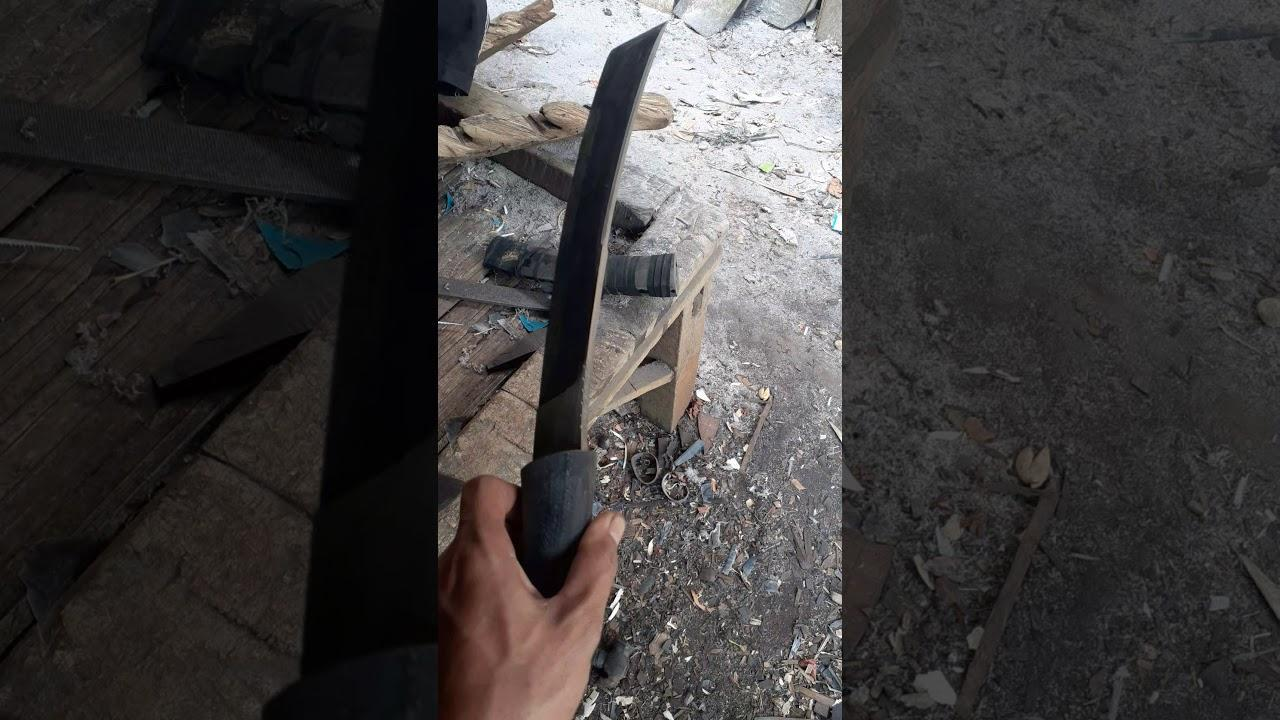espada: (499, 13, 677, 597)
